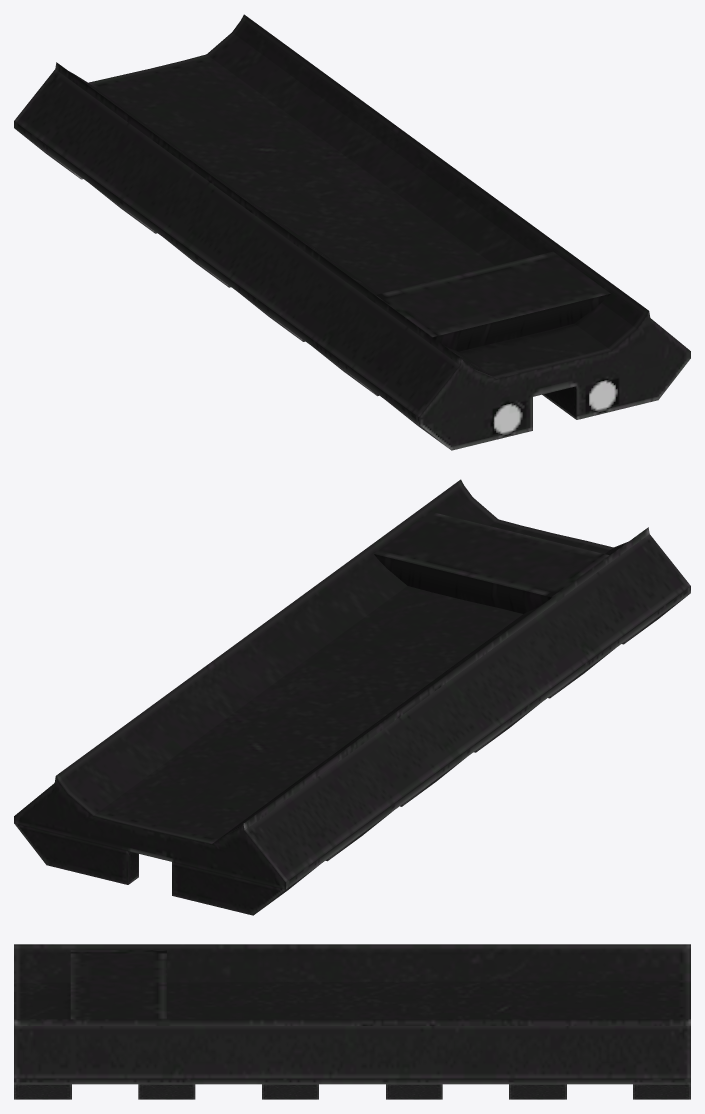
3 views of the same model, one above another, from view 1: azimuth 30°, elevation 25°; view 2: azimuth 150°, elevation 25°; view 3: azimuth 270°, elevation 25° (orthographic). The views are drawn at different scales.
Visible parts, largest first — view 1: TW_5cadd954ae921500103bb3c2_PZ_Import; view 2: TW_5cadd954ae921500103bb3c2_PZ_Import; view 3: TW_5cadd954ae921500103bb3c2_PZ_Import.
Boxes of the visible parts, x1=… form: TW_5cadd954ae921500103bb3c2_PZ_Import: x1=14, y1=14, x2=690, y2=450; TW_5cadd954ae921500103bb3c2_PZ_Import: x1=14, y1=479, x2=690, y2=915; TW_5cadd954ae921500103bb3c2_PZ_Import: x1=14, y1=944, x2=690, y2=1099.
Bounding box in the file's own units: 0.0122 × 0.0316 × 0.00394.
1 material, 1 textured.
